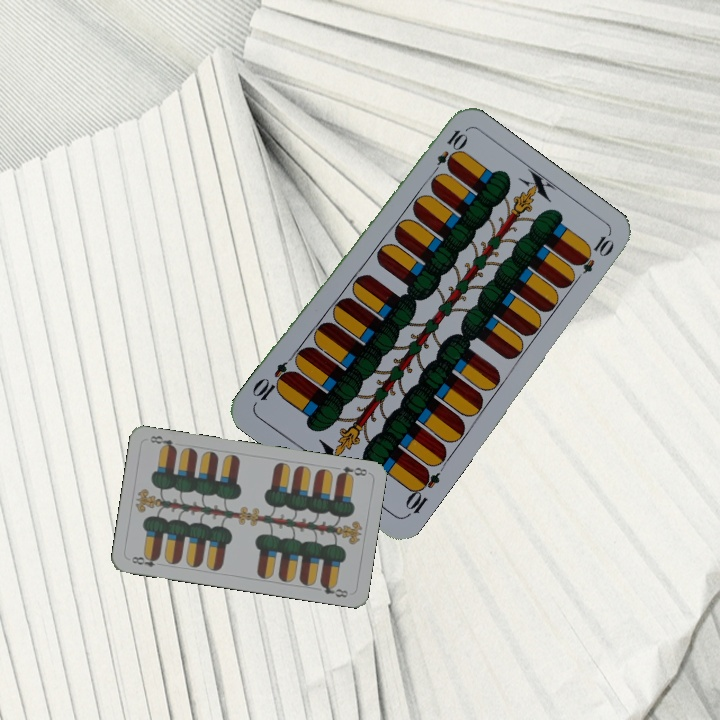E10: (400, 464, 443, 520), (427, 125, 469, 180)
E8: (333, 462, 370, 481), (127, 551, 162, 570)
